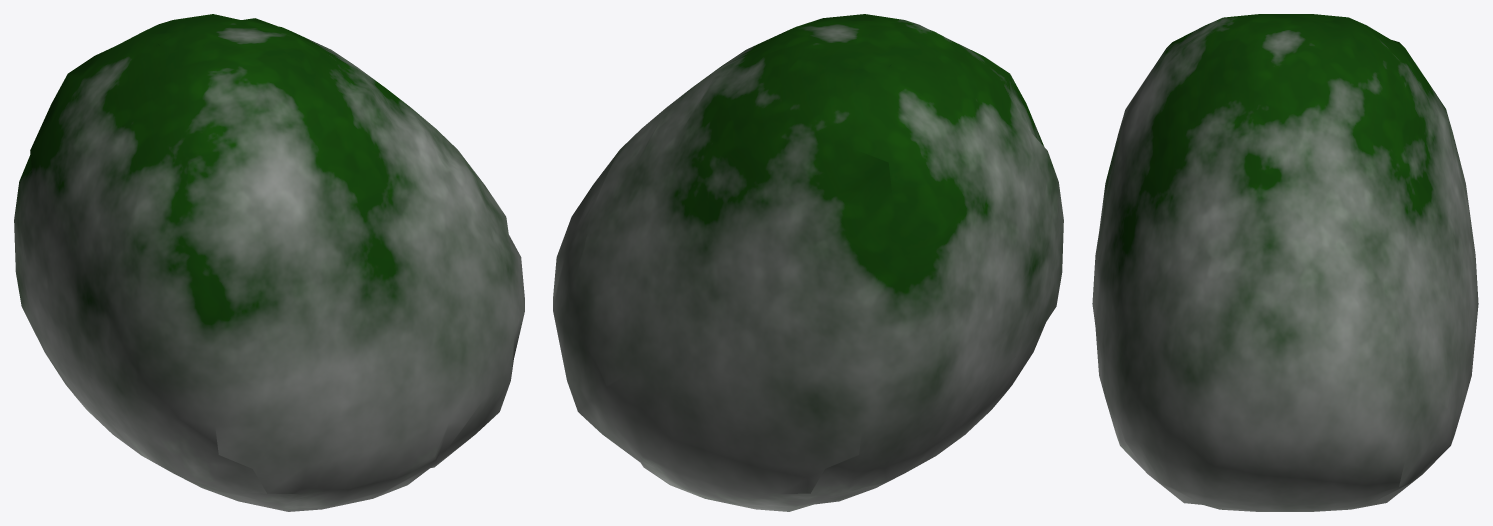
The model's file is rock_2.fbx.
3 views of the same model, side by side, from view 1: azimuth 30°, elevation 25°; view 2: azimuth 150°, elevation 25°; view 3: azimuth 270°, elevation 25° (orthographic). The views are drawn at different scales.
Visible parts, largest first — view 1: rock.003; view 2: rock.003; view 3: rock.003.
Boxes of the visible parts, left/top/right/bottom form: rock.003: left=14, top=14, right=524, bottom=511; rock.003: left=553, top=14, right=1063, bottom=511; rock.003: left=1092, top=14, right=1478, bottom=511.
Bounding box in the file's own units: 88.69 × 88.75 × 73.73.
Materials: 1 (1 with a texture image).
